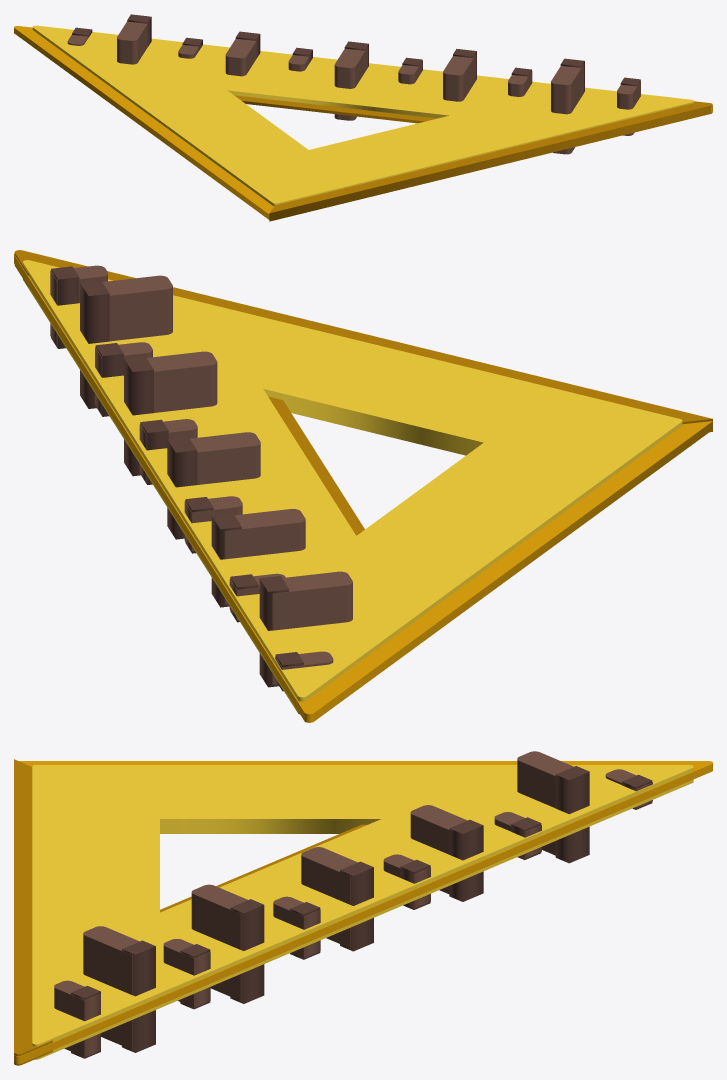
File: emoji_u1f4d0.glb
3 views of the same model, one above another, from view 1: azimuth 30°, elevation 25°; view 2: azimuth 150°, elevation 25°; view 3: azimuth 270°, elevation 25° (orthographic). The views are drawn at different scales.
Visible parts, largest first — view 1: emoji_u1f4d0; view 2: emoji_u1f4d0; view 3: emoji_u1f4d0.
Boxes of the visible parts, x1=… form: emoji_u1f4d0: x1=14, y1=14, x2=712, y2=221; emoji_u1f4d0: x1=14, y1=250, x2=712, y2=722; emoji_u1f4d0: x1=14, y1=751, x2=712, y2=1065.
Bounding box in the file's own units: 0.0335 × 0.0052 × 0.0335.
